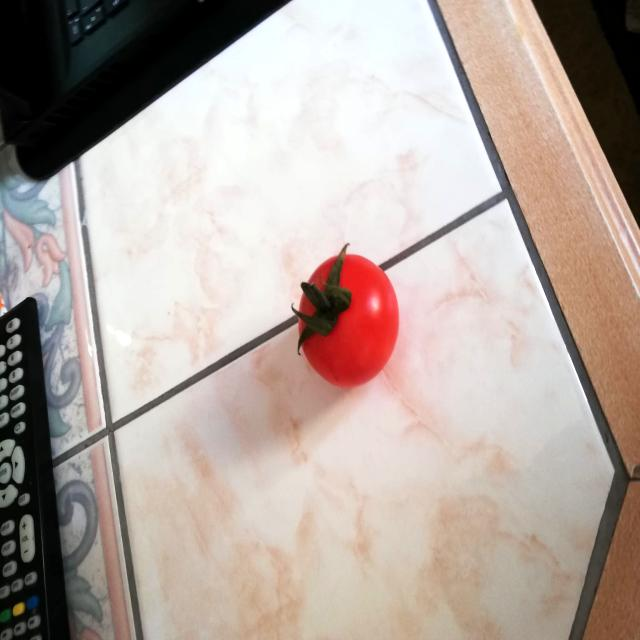tomato: (290, 240, 402, 390)
